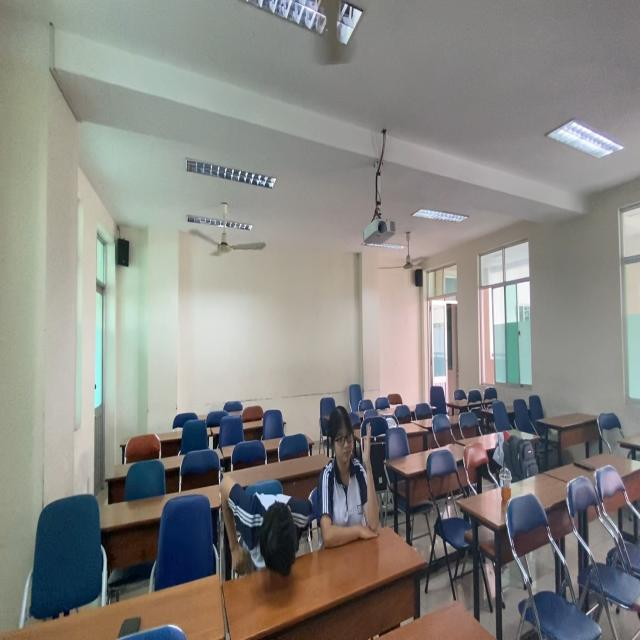raise_hand: (317, 405, 387, 540)
sleep: (212, 462, 316, 593)
